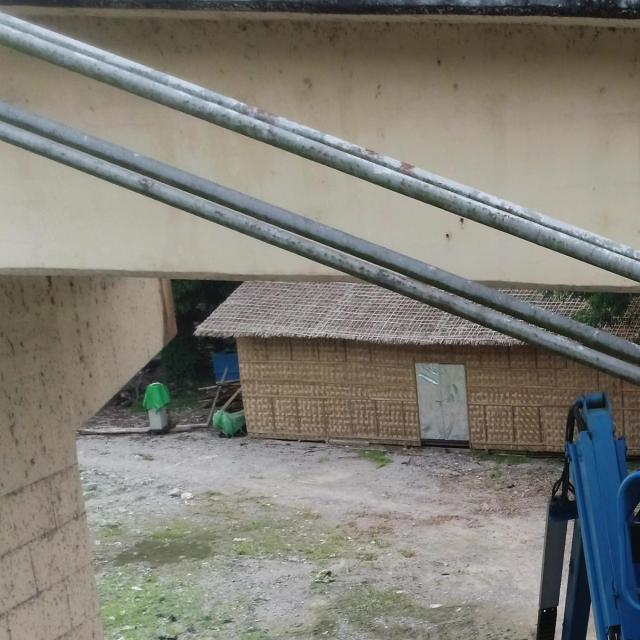corrosion: (256, 108, 276, 125), (237, 100, 254, 118), (399, 162, 416, 176), (365, 149, 376, 159)
